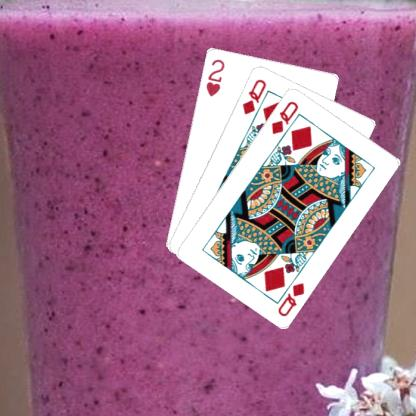2H: (203, 56, 226, 98)
QD: (268, 98, 300, 135), (274, 280, 306, 317), (240, 76, 268, 116)
